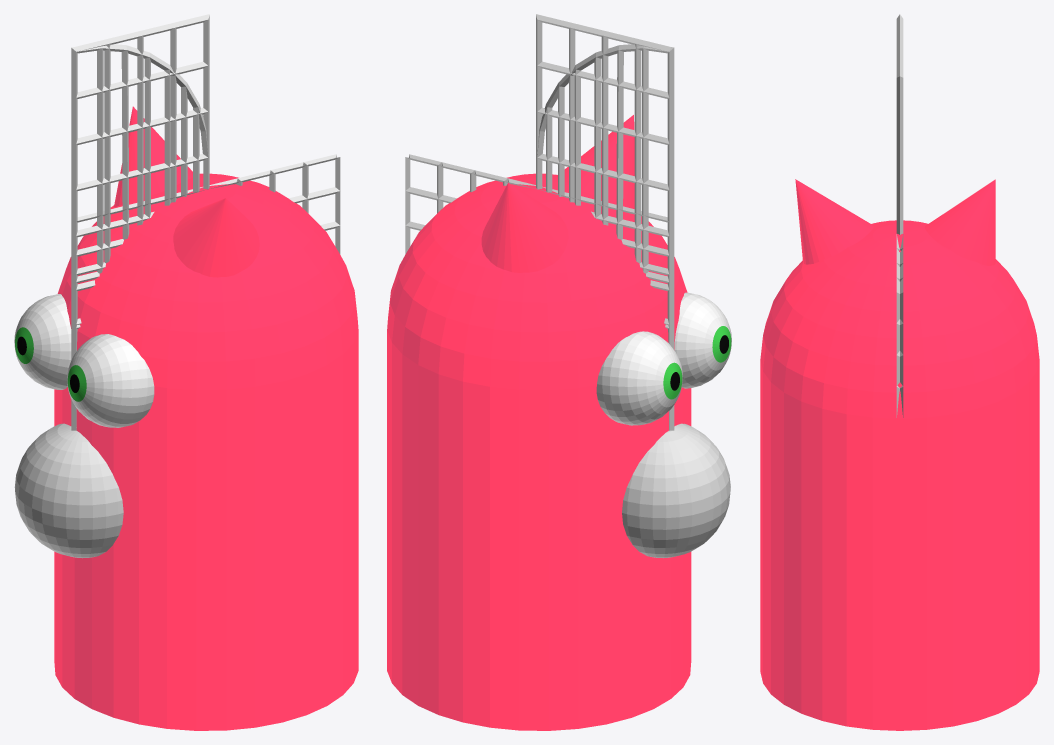
File: Brany.fbx
3 renders of one model, left to right at view 1: azimuth 30°, elevation 25°; view 2: azimuth 150°, elevation 25°; view 3: azimuth 270°, elevation 25°, orthographic. The views are drawn at different scales.
Visible parts, largest first — view 1: Duch, Sphere.001, Brána 3, Brana2, Brána1; view 2: Duch, Sphere.001, Brana2, Brána 3, Brána1; view 3: Duch, Brána 3, Brána1.
Part boxes in pixels (left/top/right/bottom): Duch: left=14, top=106, right=358, bottom=730; Sphere.001: left=14, top=423, right=123, bottom=558; Brána 3: left=71, top=14, right=209, bottom=328; Brana2: left=71, top=44, right=208, bottom=430; Brána1: left=76, top=154, right=340, bottom=324; Duch: left=387, top=115, right=731, bottom=730; Sphere.001: left=622, top=423, right=730, bottom=558; Brana2: left=536, top=44, right=674, bottom=430; Brána 3: left=536, top=14, right=673, bottom=329; Brána1: left=405, top=154, right=669, bottom=430; Duch: left=760, top=179, right=1039, bottom=730; Brána 3: left=896, top=16, right=903, bottom=234; Brána1: left=896, top=234, right=903, bottom=417.
Size of the model in its own units: 238 by 472 by 200.
